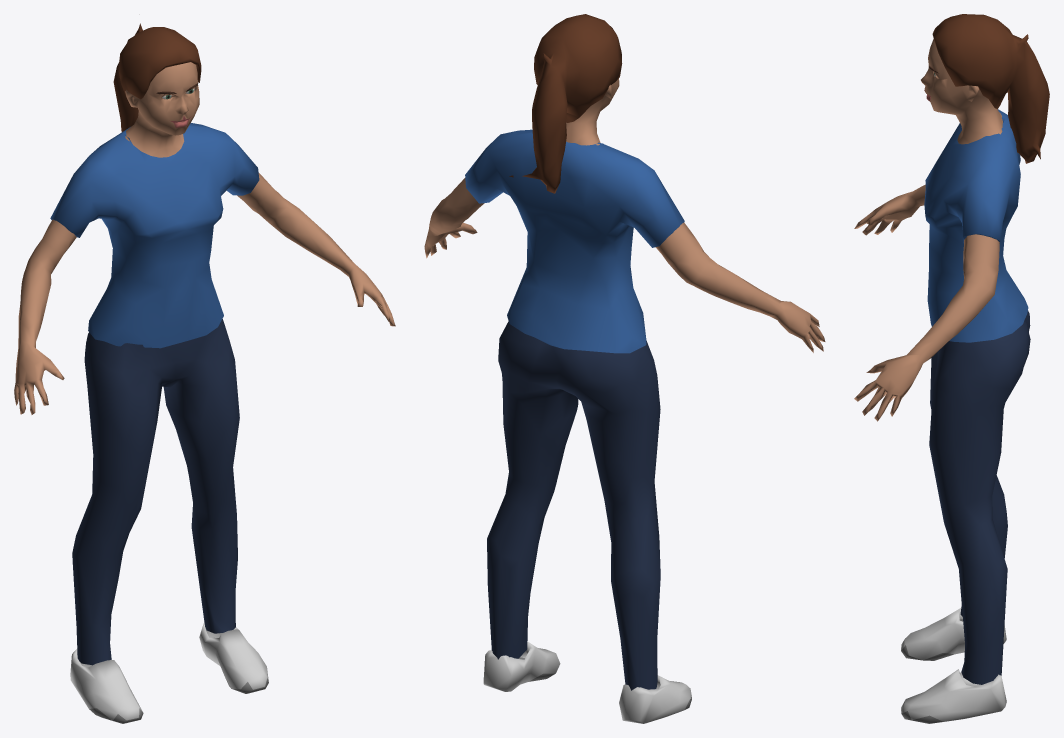
3 views of the same model, side by side, from view 1: azimuth 30°, elevation 25°; view 2: azimuth 150°, elevation 25°; view 3: azimuth 270°, elevation 25° (orthographic). The views are drawn at different scales.
Visible parts, largest first — view 1: S1_bottom, S1_top, S1_body, S1_shoes, S1_hair; view 2: S1_bottom, S1_top, S1_hair, S1_body, S1_shoes; view 3: S1_bottom, S1_top, S1_body, S1_hair, S1_shoes.
Boxes of the visible parts, <box> form: S1_bottom: <box>72,319,239,665</box>; S1_top: <box>50,123,259,348</box>; S1_body: <box>14,62,395,414</box>; S1_shoes: <box>70,622,268,723</box>; S1_hair: <box>113,23,201,131</box>; S1_bottom: <box>487,321,660,690</box>; S1_top: <box>465,129,684,353</box>; S1_hair: <box>509,14,622,193</box>; S1_body: <box>424,78,825,352</box>; S1_shoes: <box>483,642,691,723</box>; S1_bottom: <box>929,310,1030,684</box>; S1_top: <box>924,109,1028,342</box>; S1_body: <box>854,39,1002,421</box>; S1_hair: <box>932,14,1049,163</box>; S1_shoes: <box>901,608,1006,723</box>.
Size of the model in its own units: 1.01 by 1.7 by 0.4497.
